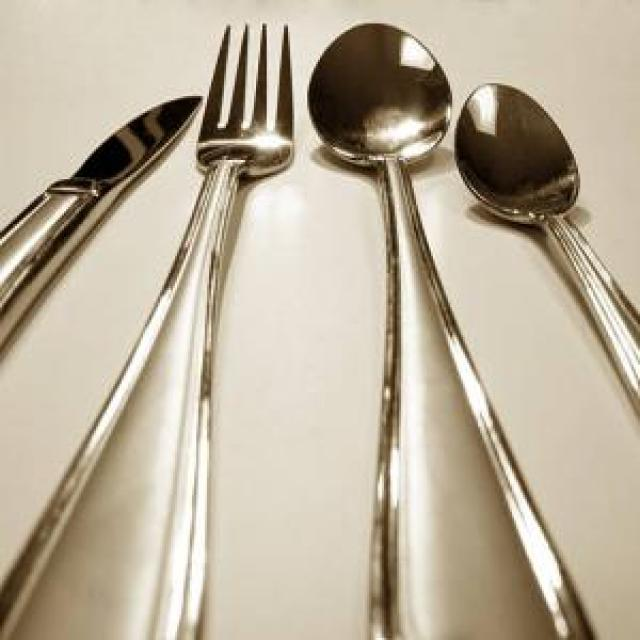knife: (0, 92, 205, 371)
